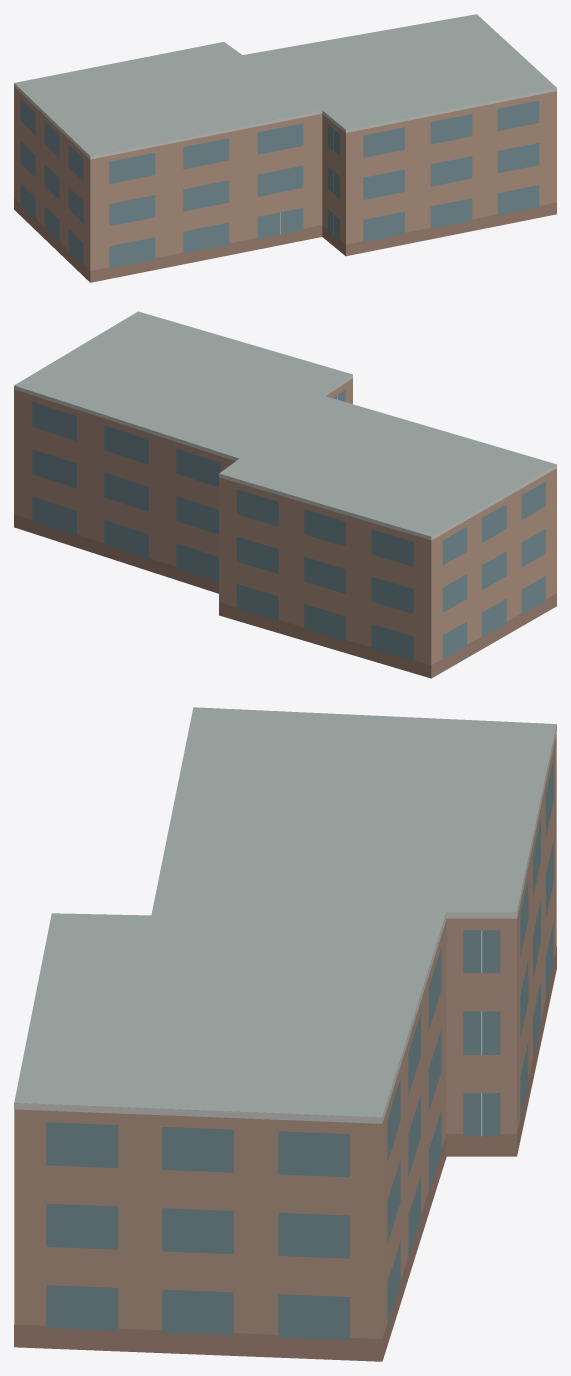
File: survey-upis-32924270.glb
3 views of the same model, one above another, from view 1: azimuth 30°, elevation 25°; view 2: azimuth 150°, elevation 25°; view 3: azimuth 270°, elevation 25° (orthographic). The views are drawn at different scales.
Parts seen in each view (by area): view 1: survey-upis-32924270.tmp; view 2: survey-upis-32924270.tmp; view 3: survey-upis-32924270.tmp.
Part boxes in pixels (x1,y1,x2,y2): survey-upis-32924270.tmp: [14, 14, 556, 282]; survey-upis-32924270.tmp: [14, 311, 556, 678]; survey-upis-32924270.tmp: [14, 707, 556, 1361].
Size of the model in its own units: 32.95 by 9.15 by 18.43.
